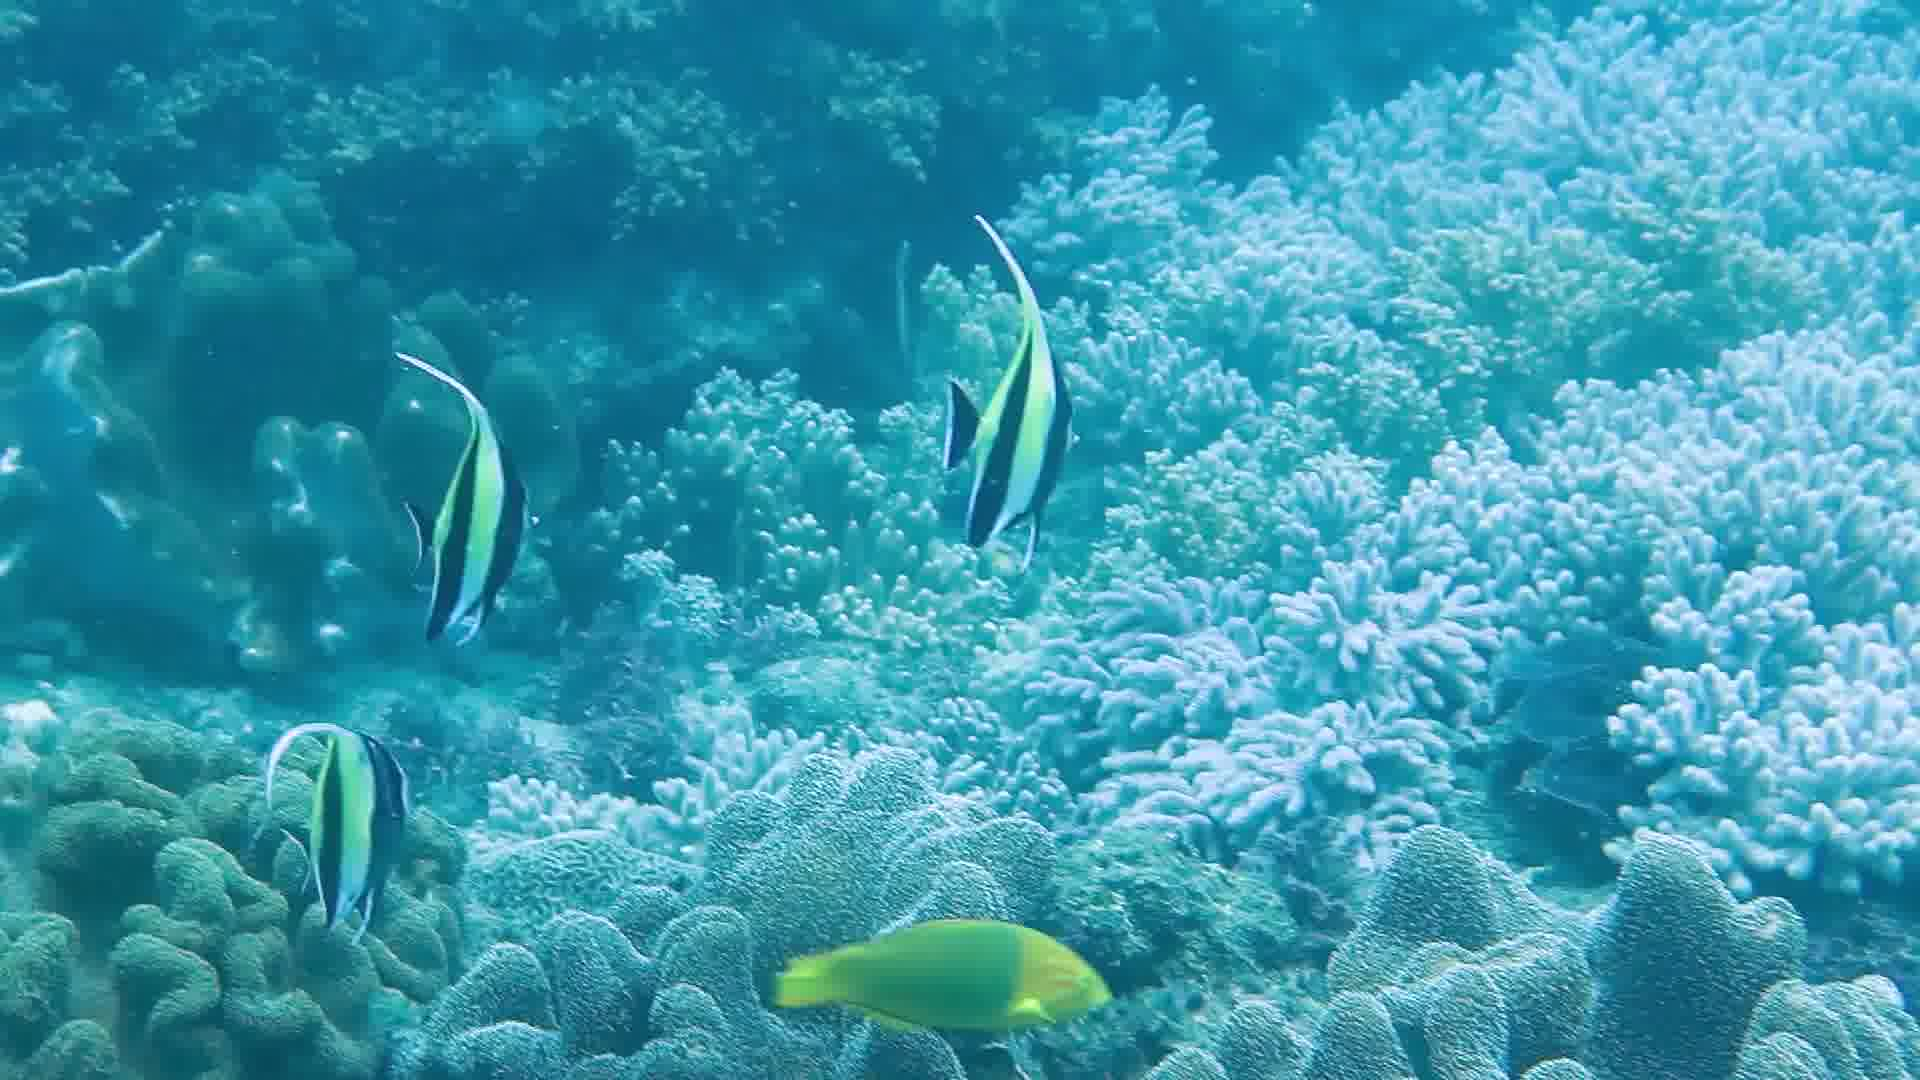Zanclus cornutus: (919, 251, 1088, 578), (384, 380, 550, 638), (258, 694, 442, 924)
